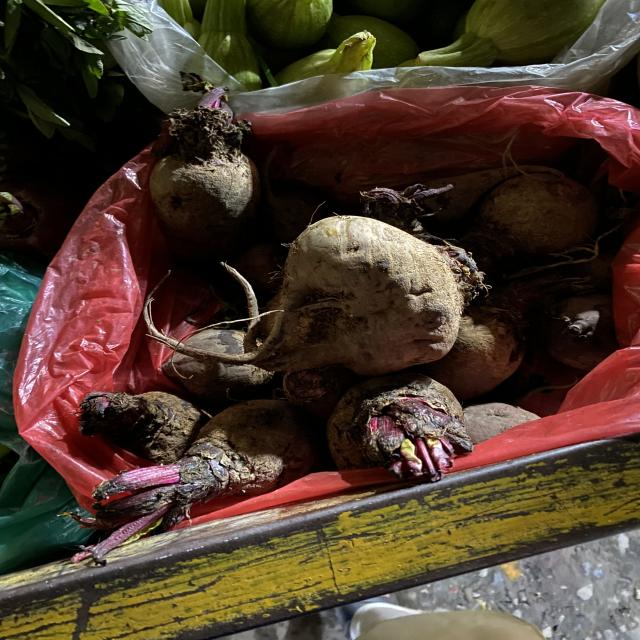paper: (275, 202, 496, 371), (125, 94, 245, 261)
